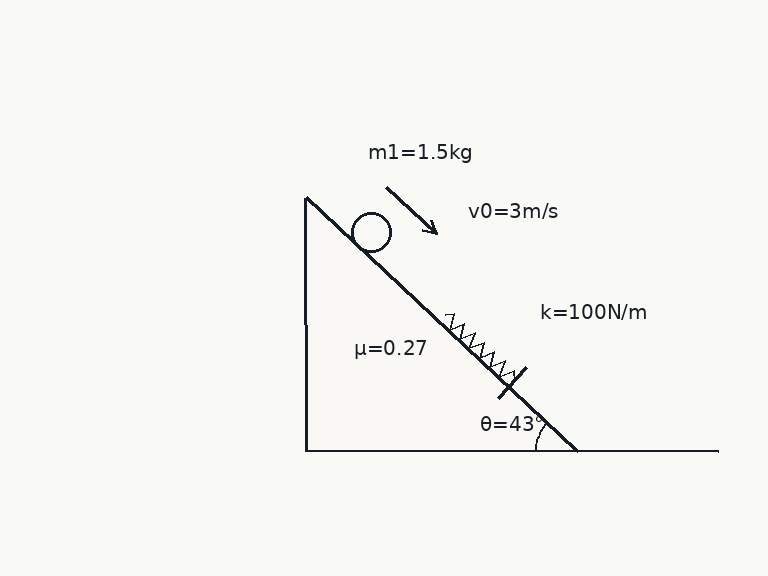ball: (349, 210, 393, 254)
ramp: (304, 196, 578, 452)
spring: (443, 313, 517, 382)
